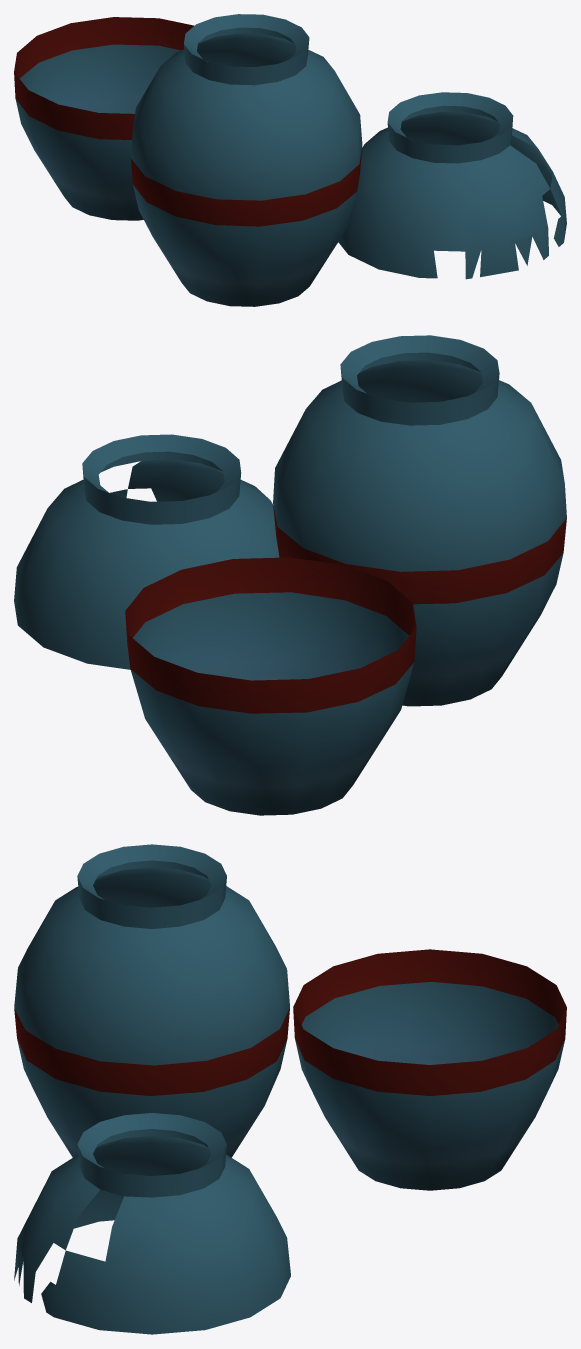
The model's file is Vaso2Templo.glb.
3 renders of one model, top to bottom at view 1: azimuth 30°, elevation 25°; view 2: azimuth 150°, elevation 25°; view 3: azimuth 270°, elevation 25°, orthographic. The views are drawn at different scales.
Parts seen in each view (by area): view 1: Vaso2Templo; view 2: Vaso2Templo; view 3: Vaso2Templo.
Boxes of the visible parts, x1,y1,x2,y2 form: Vaso2Templo: [14, 14, 566, 306]; Vaso2Templo: [14, 335, 566, 815]; Vaso2Templo: [14, 844, 566, 1334].
Size of the model in its own units: 3.99 by 2.24 by 3.98.
Materials: 1 (1 with a texture image).
